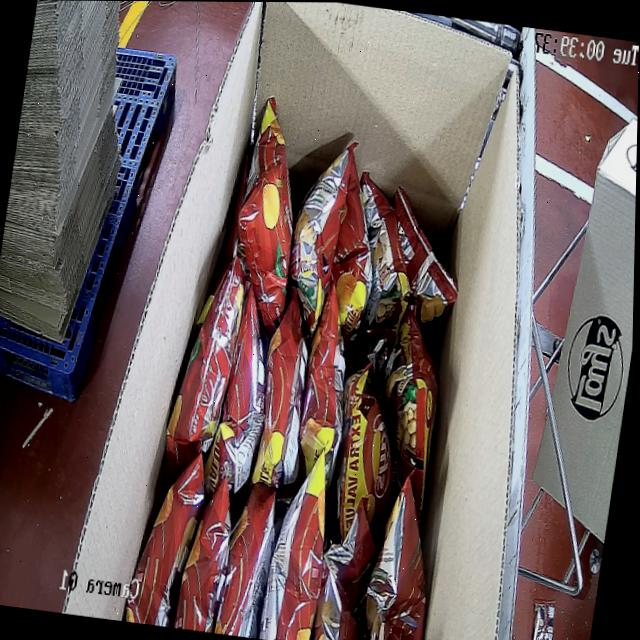MASALA: (123, 87, 499, 640)
